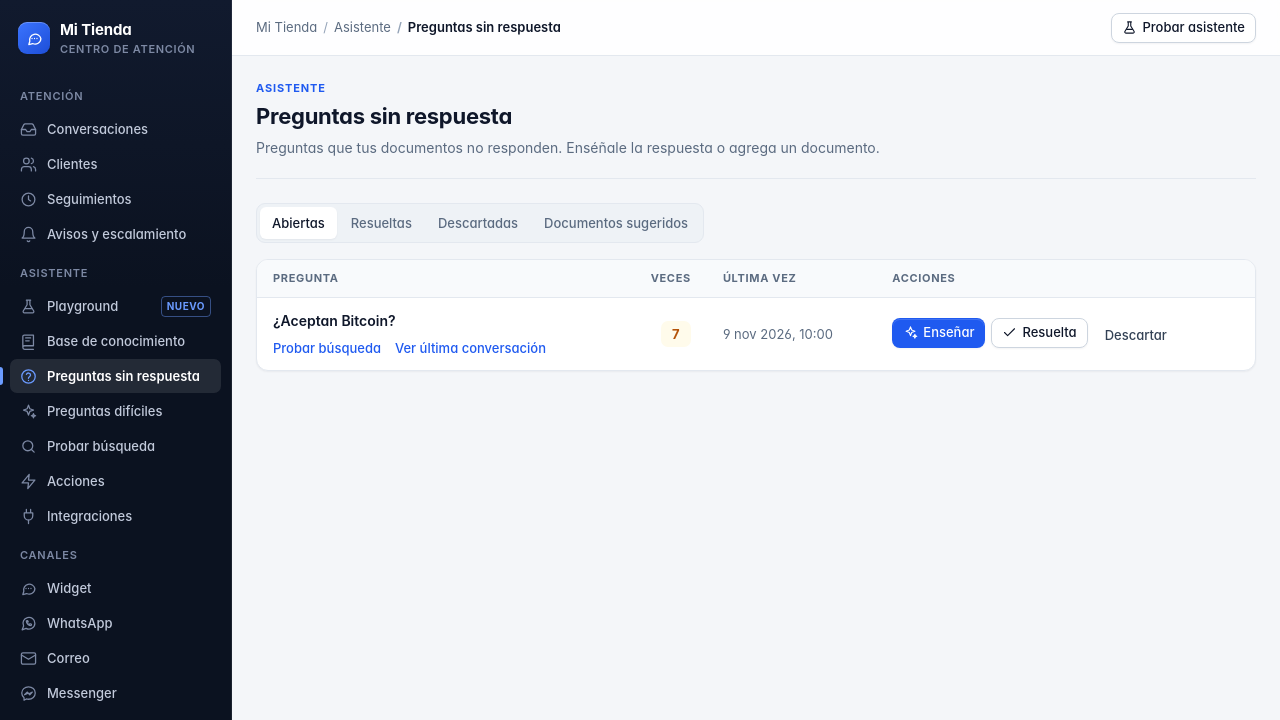
Test: Knowledge gaps › lists unanswered questions by frequency and lets managers resolve them
Check: the text "7" is shown, box [661,321,691,347]
Click the button "Resuelta".
click(1040, 333)  # box [992,318,1088,348]
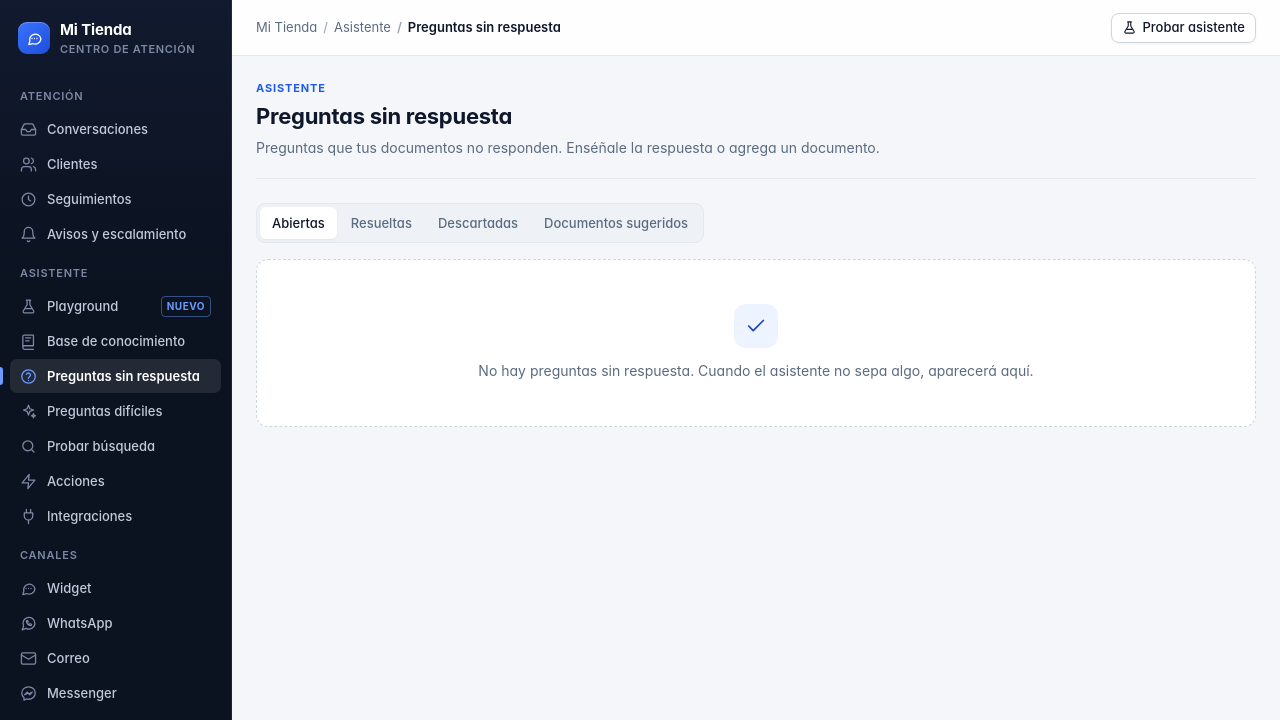
Check: the text "No hay preguntas sin respuesta" is shown, box [478,362,1034,379]
